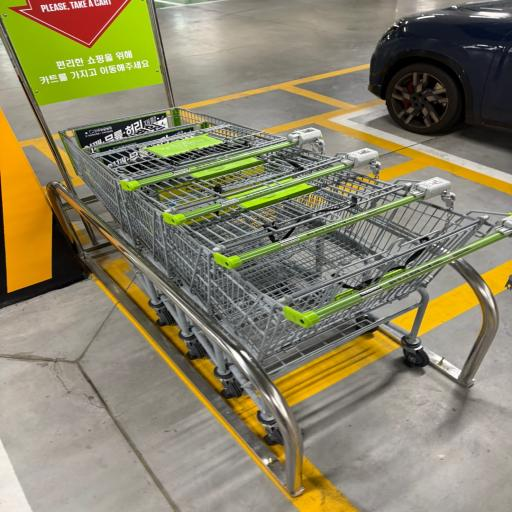combined_cart: (32, 102, 512, 511)
